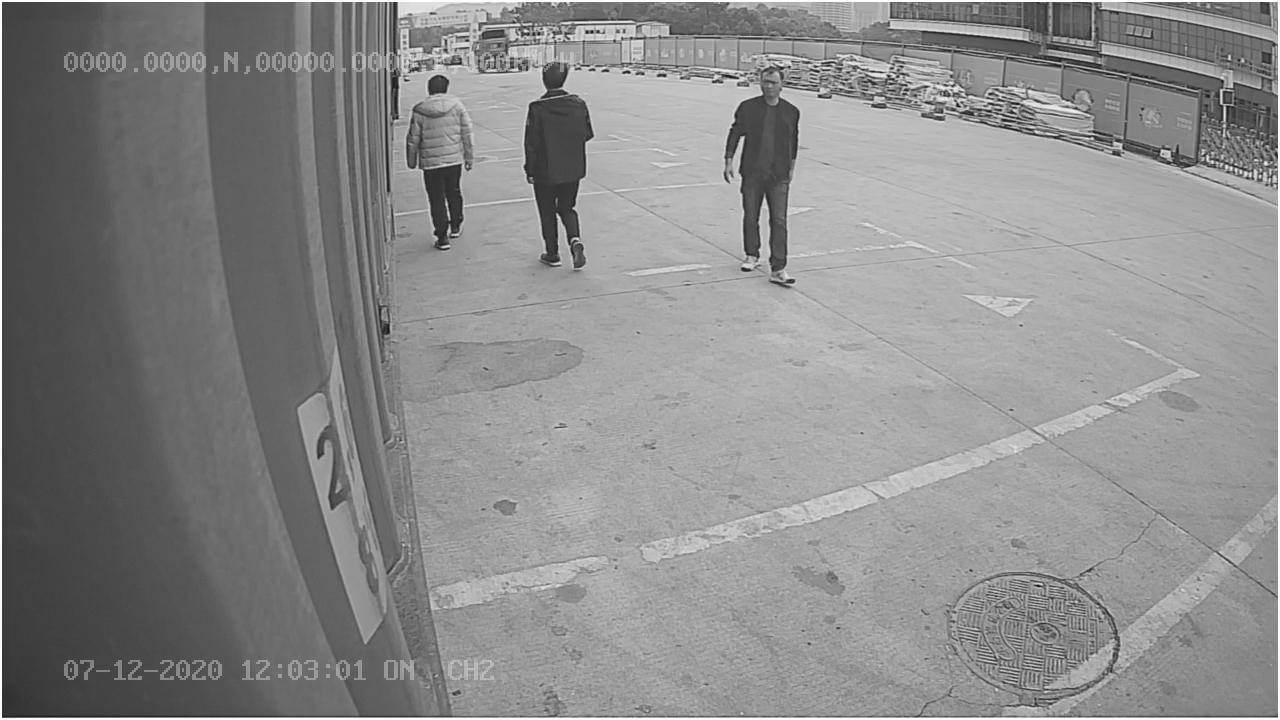person: (725, 60, 802, 288)
